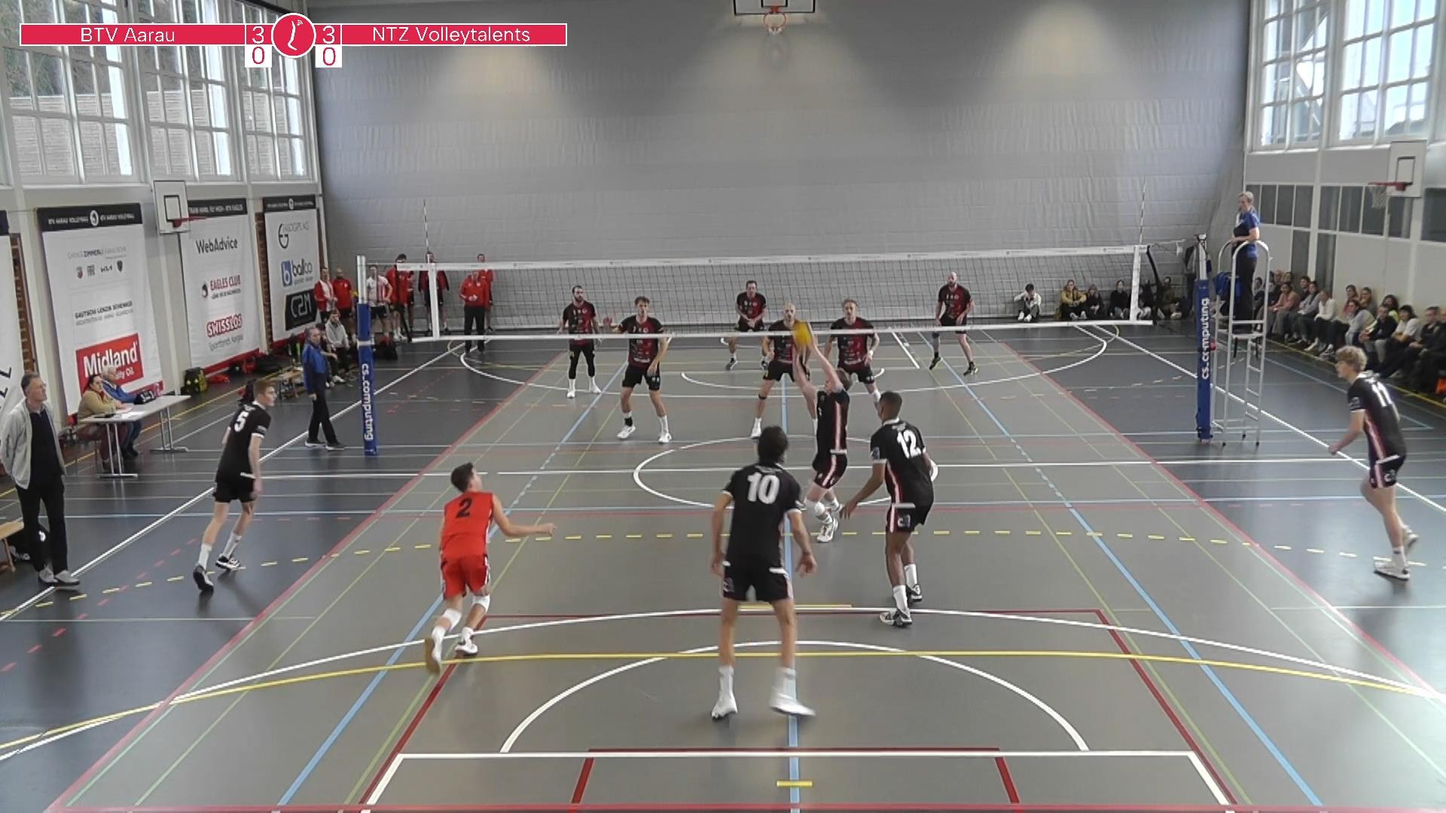Player: (711, 426, 816, 719), (424, 464, 554, 674), (842, 391, 936, 626), (1329, 346, 1417, 580), (193, 379, 276, 592), (604, 296, 671, 443), (749, 303, 807, 438), (823, 299, 883, 402), (935, 272, 973, 327), (566, 339, 600, 397), (735, 280, 766, 333)
Set: (778, 316, 853, 547)
ball: (790, 321, 818, 353)
